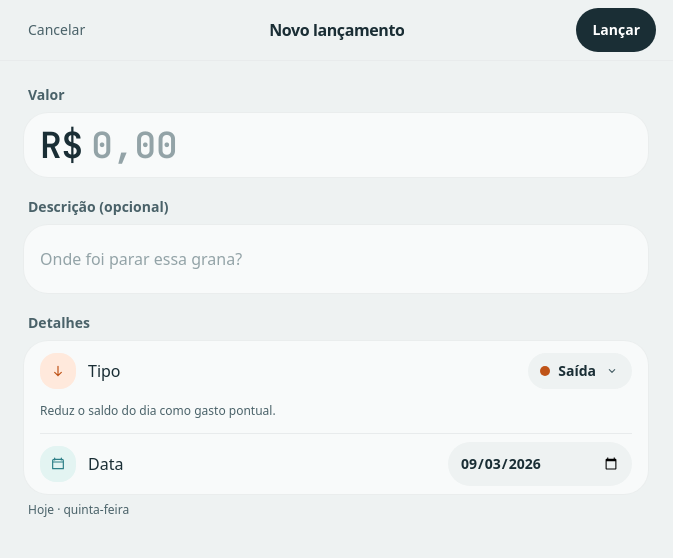
it: TransactionForm › should keep the confirm action available and report the invalid field on submit
Expected: the button "Cancelar" is shown, [16,8,97,52]
Step 1. Click the button "Lançar" → (616, 30), box [576,8,656,52]
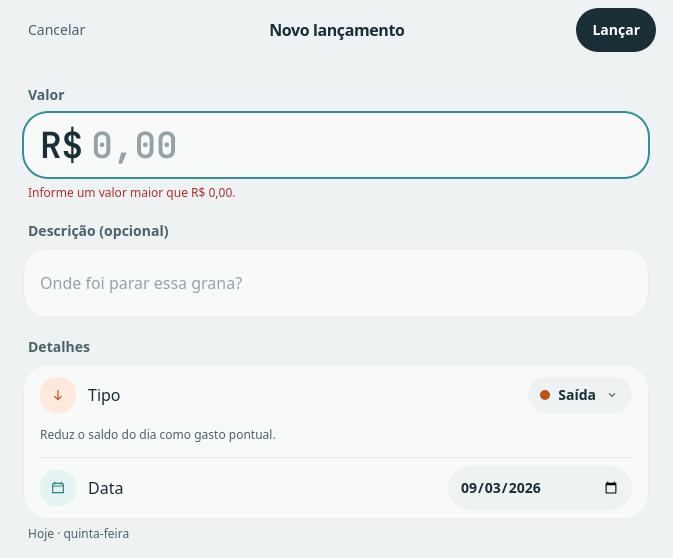
Expected: the text "Informe um valor maior que R$ 0,00." is shown, [28,184,236,201]
